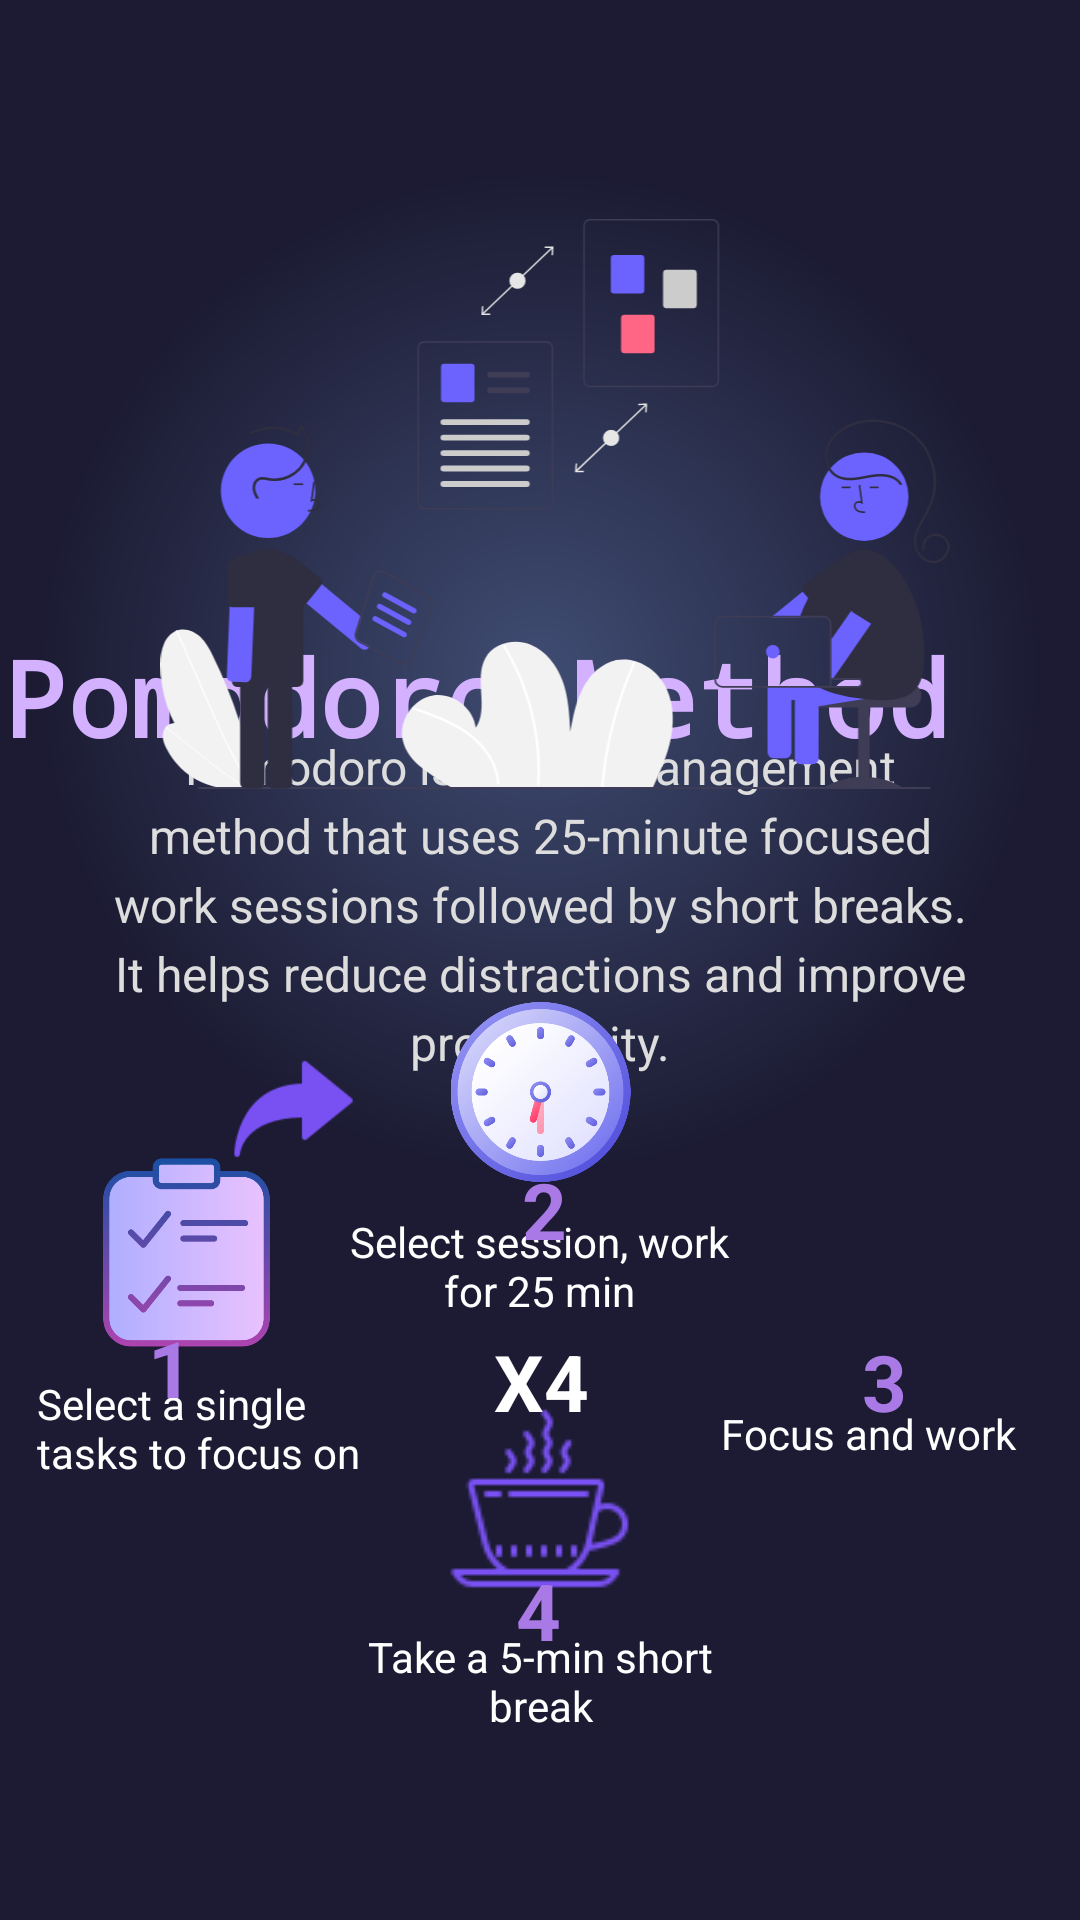

Point at icon controls on the screen. Image size 1080px×1920px, points as (x=x, y=y).
arrow: (x=293, y=1108)
check list: (x=186, y=1254)
clock: (x=541, y=1092)
coffee: (x=539, y=1503)
